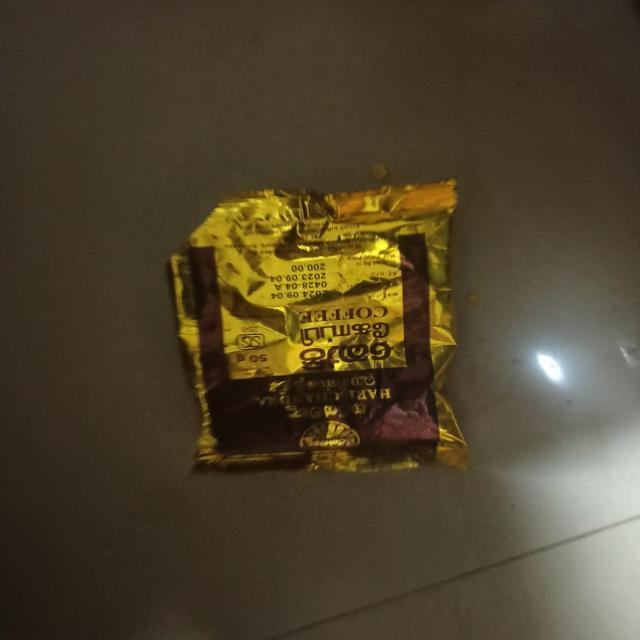Harischandra Coffee: (150, 188, 408, 403)
